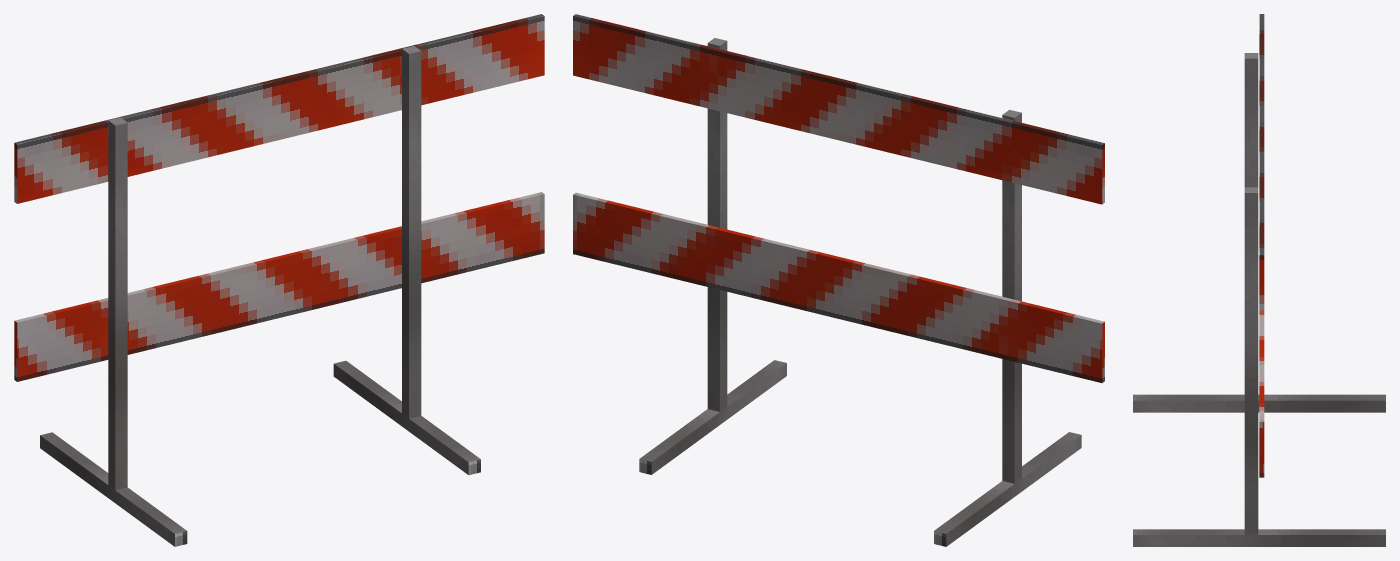
Rendered from barrier_planks.glb.
3 renders of one model, left to right at view 1: azimuth 30°, elevation 25°; view 2: azimuth 150°, elevation 25°; view 3: azimuth 270°, elevation 25°, orthographic. The views are drawn at different scales.
Parts seen in each view (by area): view 1: Type_3_barrier_2_planks; view 2: Type_3_barrier_2_planks; view 3: Type_3_barrier_2_planks.
Part boxes in pixels (left/top/right/bottom): Type_3_barrier_2_planks: left=14, top=14, right=544, bottom=546; Type_3_barrier_2_planks: left=573, top=14, right=1104, bottom=546; Type_3_barrier_2_planks: left=1133, top=14, right=1385, bottom=546.
Bounding box in the file's own units: 1.96 × 1.34 × 0.8703.
Materials: 1 (1 with a texture image).
